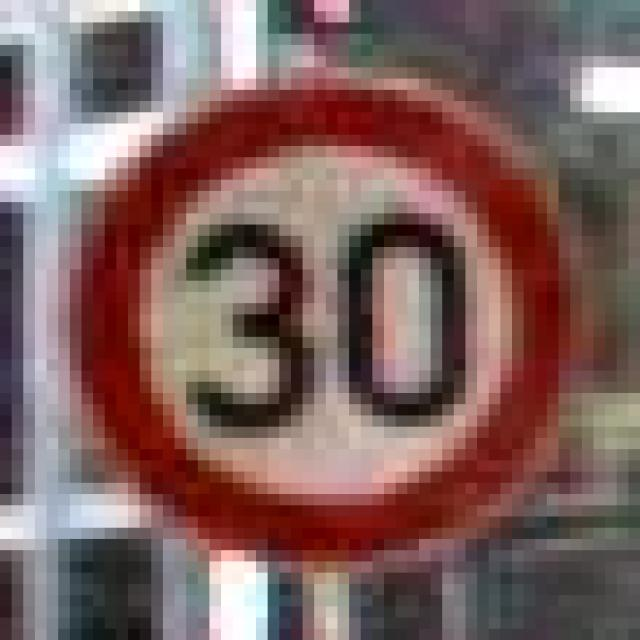speed limit 30: (59, 74, 583, 572)
